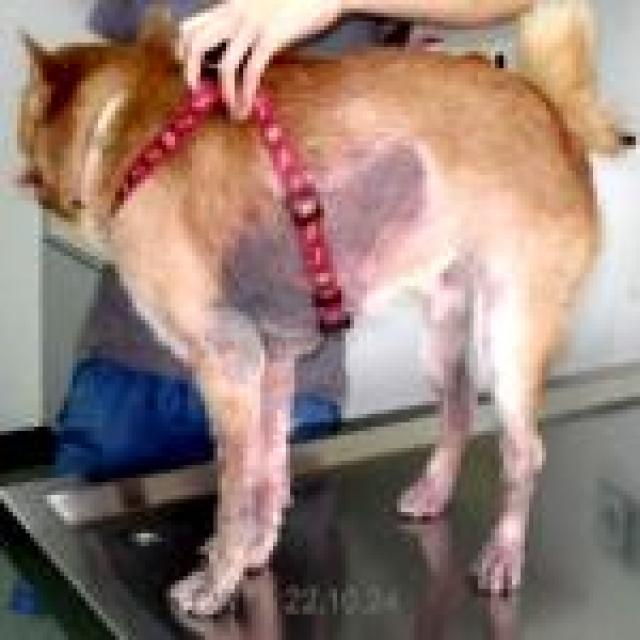fungal infection: (203, 205, 325, 340), (318, 147, 433, 276), (421, 338, 480, 435), (244, 391, 301, 461), (247, 472, 293, 546), (208, 414, 255, 485), (479, 534, 530, 590), (404, 471, 448, 516), (503, 459, 535, 514)
